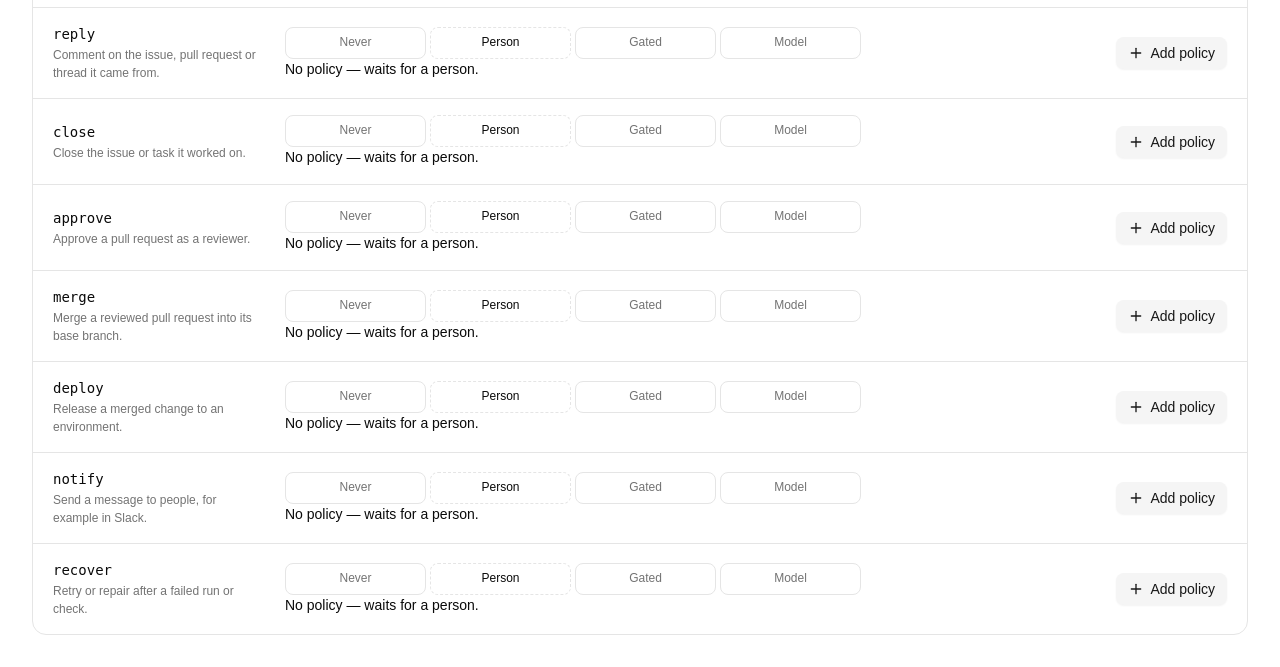
Test: FactoryPolicies › starts a policy for the action whose row was used
The image size is (1280, 667).
(page scrolled)
Click the button with aria-label "Add a policy for deploy" at {"x": 1172, "y": 407}, box [1116, 391, 1227, 423]
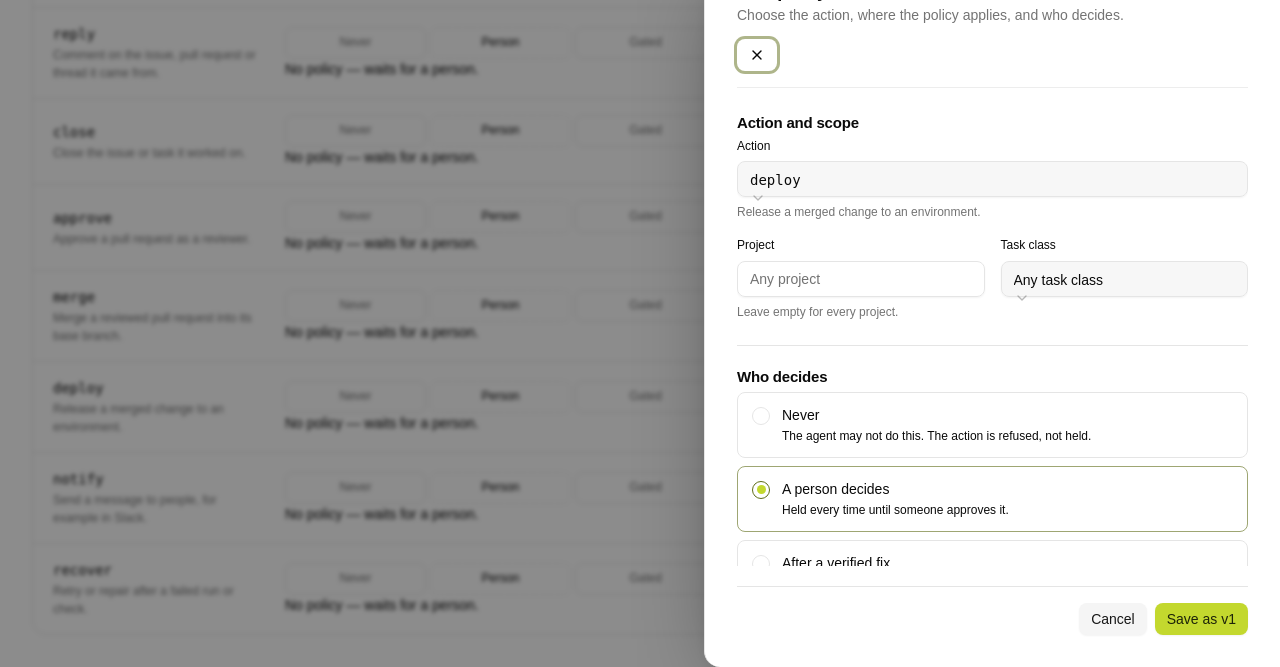
Now the dropdown named "Action" reads "deploy", box [737, 161, 1248, 197]
